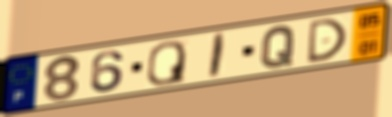6: (90, 50, 125, 94)
8: (43, 54, 82, 102)
D: (305, 16, 350, 65)
I: (206, 30, 229, 81)
Q: (145, 39, 187, 87), (258, 24, 298, 71)
